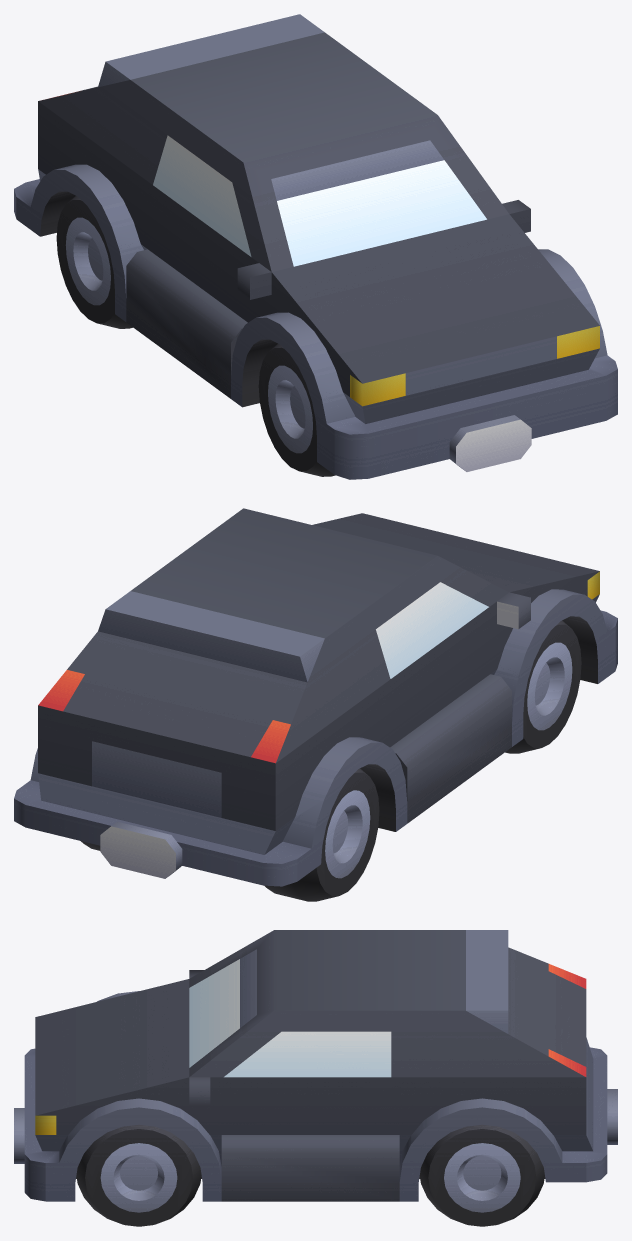
Rendered from Car.glb.
3 renders of one model, top to bottom at view 1: azimuth 30°, elevation 25°; view 2: azimuth 150°, elevation 25°; view 3: azimuth 270°, elevation 25°, orthographic. The views are drawn at different scales.
Parts seen in each view (by area): view 1: body, wheel-back-right, wheel-front-right; view 2: body, wheel-back-right, wheel-front-right; view 3: body, wheel-front-left, wheel-back-left.
Part boxes in pixels (x1,y1,x2,y2): body: (14, 14, 617, 479); wheel-back-right: (56, 196, 132, 328); wheel-front-right: (258, 343, 335, 476); body: (14, 508, 617, 886); wheel-back-right: (264, 768, 379, 901); wheel-front-right: (505, 620, 581, 753); body: (14, 930, 617, 1201); wheel-front-left: (76, 1124, 201, 1226); wheel-back-left: (419, 1124, 544, 1226).
Bounding box in the file's own units: 6.6 × 5.59 × 14.48.
Materials: 1 (1 with a texture image).
